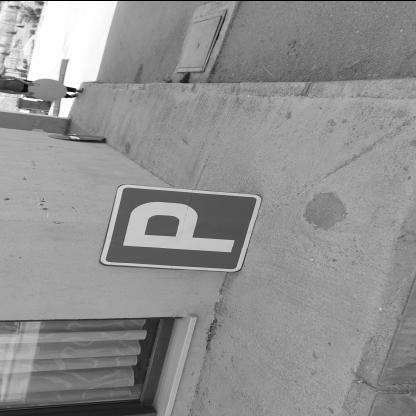Parking-Sign: (100, 185, 264, 273)
